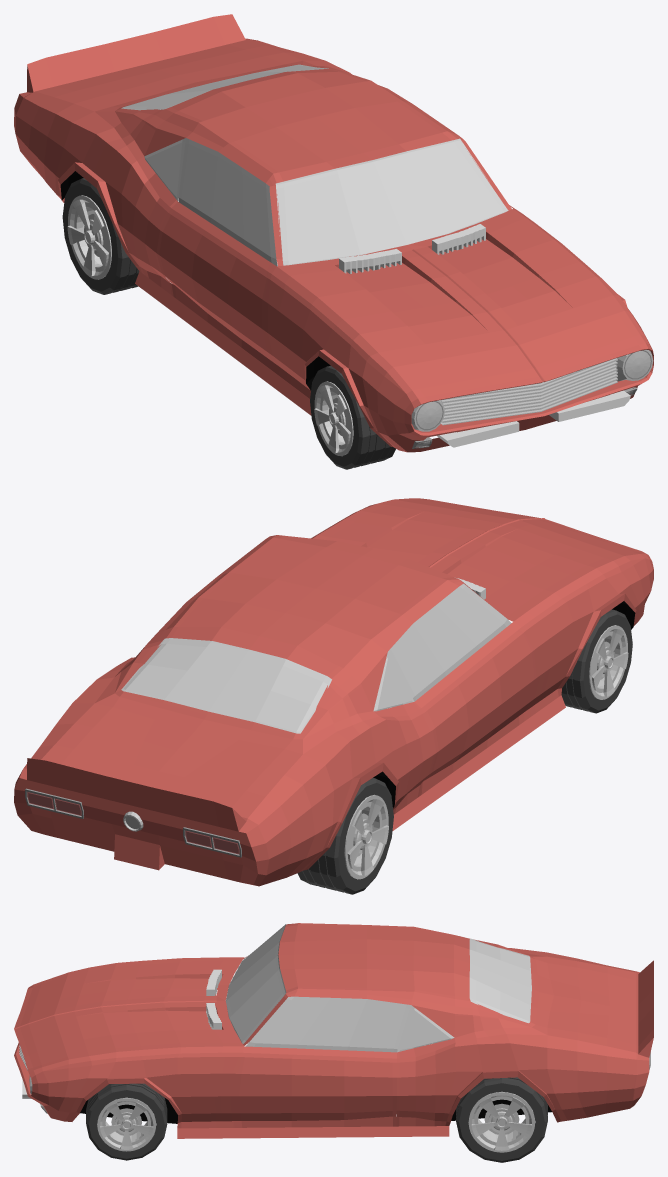
Rendered from Chevrolet_Camaro_SS_Low.gltf.
3 views of the same model, one above another, from view 1: azimuth 30°, elevation 25°; view 2: azimuth 150°, elevation 25°; view 3: azimuth 270°, elevation 25° (orthographic). The views are drawn at different scales.
Parts seen in each view (by area): view 1: Carroceria_Plano, Parabrisas_Ad_Plano.005, Pueratas_Plano.008, Ventana_1_Plano.013, Rejilla_Plano.002, Ruedas_Ad_Círculo.004, Ruedas_Tr_Círculo.005, Rin_1_Tr_Plano.018, Plano.002_Plano.019, Rin_1_Ad_Plano.017, Cubo, Parabrisas_Tr_Plano.015 (+4 smaller); view 2: Carroceria_Plano, Parabrisas_Tr_Plano.015, Pueratas_Plano.008, Ventana_1_Plano.013, Ruedas_Tr_Círculo.005, Ruedas_Ad_Círculo.004, Rin_1_Tr_Plano.018, Rin_1_Ad_Plano.017, Luz_Tr_Plano.021, Marco_Parabrisad_Tr_Plano.016, Ventana_2_Plano.010; view 3: Carroceria_Plano, Pueratas_Plano.008, Ventana_1_Plano.013, Parabrisas_Ad_Plano.005, Parabrisas_Tr_Plano.015, Ruedas_Tr_Círculo.005, Ruedas_Ad_Círculo.004, Rin_1_Tr_Plano.018, Rin_1_Ad_Plano.017, Ventana_2_Plano.010, Cubo, Marco_Ventana_2_Plano.012 (+2 smaller).
Part boxes in pixels (left/top/right/bottom): Carroceria_Plano: left=14, top=14, right=653, bottom=452; Parabrisas_Ad_Plano.005: left=277, top=140, right=507, bottom=264; Pueratas_Plano.008: left=156, top=202, right=519, bottom=367; Ventana_1_Plano.013: left=178, top=138, right=277, bottom=266; Rejilla_Plano.002: left=441, top=358, right=617, bottom=425; Ruedas_Ad_Círculo.004: left=310, top=365, right=395, bottom=469; Ruedas_Tr_Círculo.005: left=62, top=178, right=139, bottom=294; Rin_1_Tr_Plano.018: left=67, top=195, right=111, bottom=279; Plano.002_Plano.019: left=437, top=390, right=630, bottom=447; Rin_1_Ad_Plano.017: left=314, top=381, right=353, bottom=456; Cubo: left=339, top=224, right=485, bottom=273; Parabrisas_Tr_Plano.015: left=124, top=65, right=326, bottom=109; Carroceria_Plano: left=14, top=498, right=653, bottom=886; Parabrisas_Tr_Plano.015: left=124, top=639, right=329, bottom=731; Pueratas_Plano.008: left=415, top=622, right=540, bottom=780; Ventana_1_Plano.013: left=388, top=583, right=511, bottom=701; Ruedas_Tr_Círculo.005: left=297, top=778, right=393, bottom=894; Ruedas_Ad_Círculo.004: left=561, top=609, right=632, bottom=713; Rin_1_Tr_Plano.018: left=344, top=794, right=388, bottom=879; Rin_1_Ad_Plano.017: left=589, top=625, right=628, bottom=699; Luz_Tr_Plano.021: left=25, top=788, right=241, bottom=857; Marco_Parabrisad_Tr_Plano.016: left=121, top=638, right=331, bottom=733; Ventana_2_Plano.010: left=377, top=659, right=411, bottom=709; Carroceria_Plano: left=14, top=923, right=653, bottom=1138; Pueratas_Plano.008: left=230, top=1046, right=396, bottom=1120; Ventana_1_Plano.013: left=245, top=996, right=411, bottom=1052; Parabrisas_Ad_Plano.005: left=226, top=925, right=285, bottom=1043; Parabrisas_Tr_Plano.015: left=471, top=939, right=530, bottom=1021; Ruedas_Tr_Círculo.005: left=456, top=1077, right=547, bottom=1162; Ruedas_Ad_Círculo.004: left=86, top=1083, right=167, bottom=1160; Rin_1_Tr_Plano.018: left=468, top=1091, right=534, bottom=1152; Rin_1_Ad_Plano.017: left=97, top=1097, right=155, bottom=1151; Ventana_2_Plano.010: left=400, top=1010, right=450, bottom=1049; Cubo: left=206, top=969, right=221, bottom=1029; Marco_Ventana_2_Plano.012: left=397, top=1005, right=454, bottom=1052.
Bounding box in the file's own units: 3.92 × 2.68 × 9.85.
